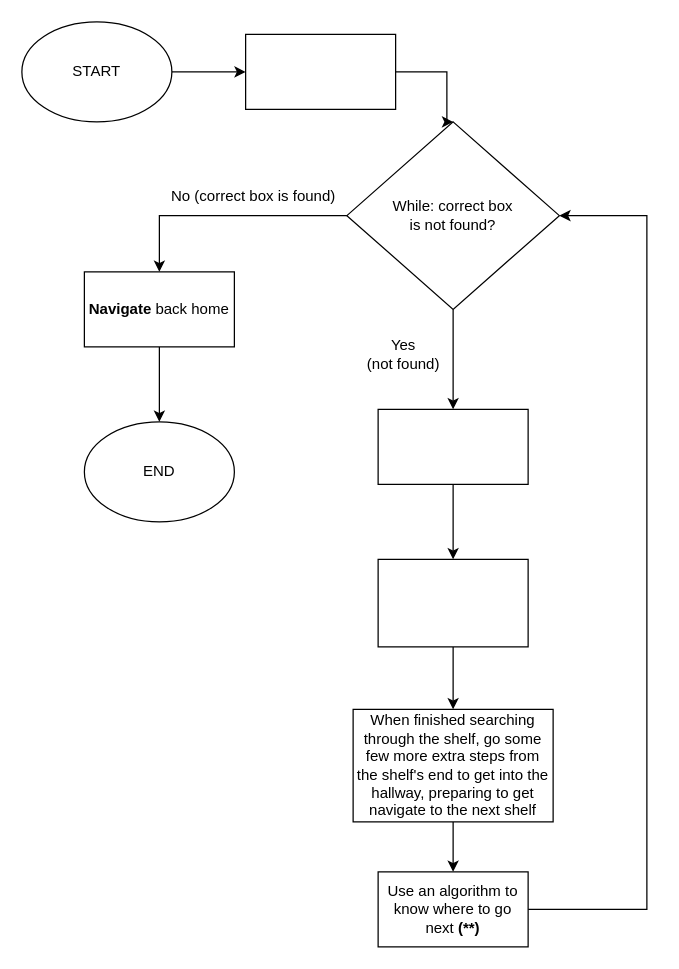
Image size: 679x969. Some labels were removed from this diagram. Each missing label, with the centre of its shape:
"Barcode scanning algorithm to scan the entire shelf horizontally" goes at point (452, 602).
"Navigate from HOME to Hallway" goes at point (320, 71).
"Navigate into the beginning of the next shelf" goes at point (452, 446).
